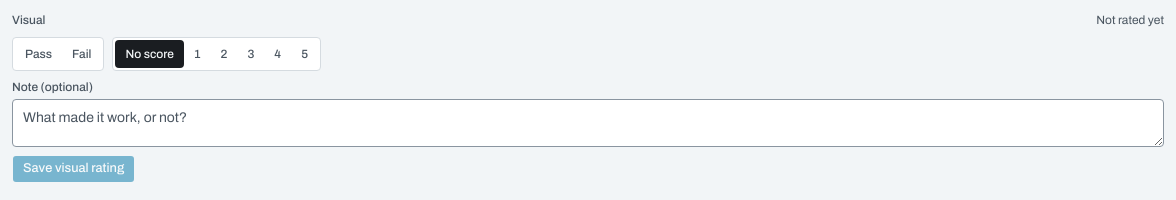
Test case: RatingControl › starts unrated with Save disabled until a verdict is chosen
The width and height of the screenshot is (1176, 200).
Expected: the text "Not rated yet" is shown, 1096,12 -> 1164,28
Expected: the button "Save visual rating" is disabled, 12,155 -> 135,183
Click the button "Pass" at (39, 54), box 15,40 -> 62,68
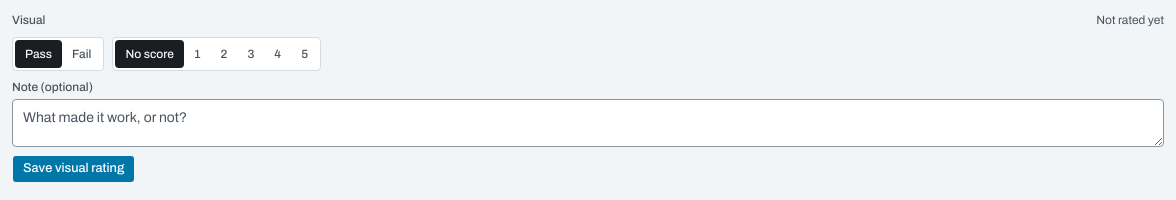
Expected: the element named "Your verdict on the visual" is shown, 12,36 -> 104,70
Now the button "Save visual rating" is enabled, box 12,155 -> 135,183
